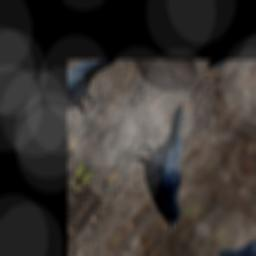Crow: (103, 89, 232, 234)
